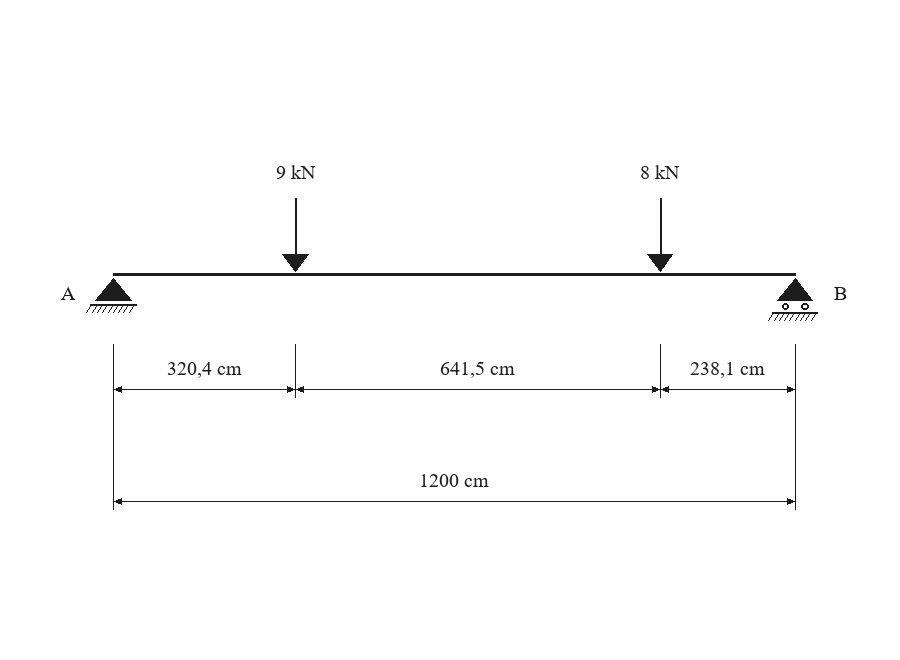pin_support: (86, 278, 137, 313)
point_load: (282, 198, 309, 272), (647, 198, 673, 272)
roller_support: (768, 278, 818, 321)
